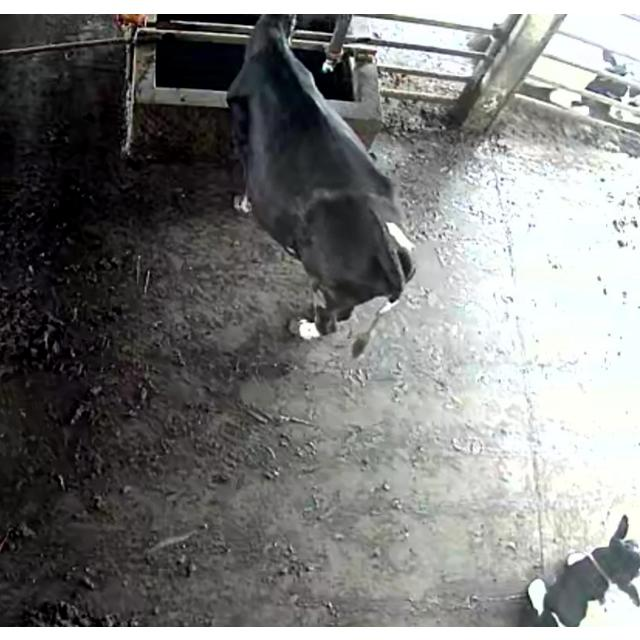drink: (202, 13, 356, 131)
